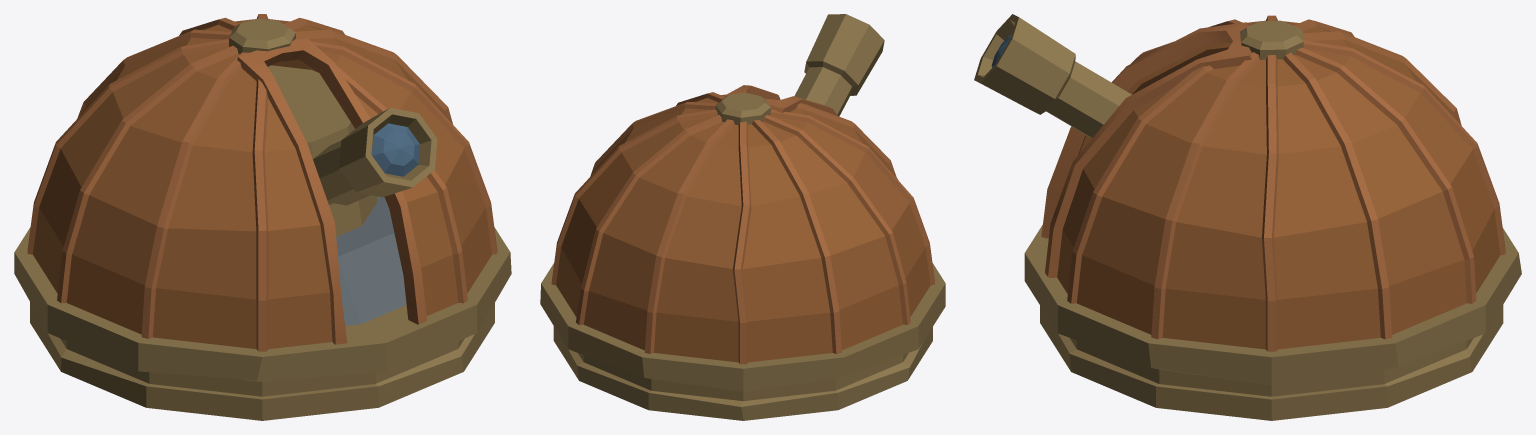
The model's file is SM_Bld_House_Observatory_01.fbx.
The picture shows the model from 3 angles, left to right: view 1: azimuth 30°, elevation 25°; view 2: azimuth 150°, elevation 25°; view 3: azimuth 270°, elevation 25°; orthographic projection. The views are drawn at different scales.
Parts seen in each view (by area): view 1: SM_Bld_House_Observatory_01, SM_Bld_House_Observatory_Telescope_01; view 2: SM_Bld_House_Observatory_01, SM_Bld_House_Observatory_Telescope_01; view 3: SM_Bld_House_Observatory_01, SM_Bld_House_Observatory_Telescope_01.
Boxes of the visible parts, x1,y1,x2,y2 form: SM_Bld_House_Observatory_01: (14, 14, 511, 420); SM_Bld_House_Observatory_Telescope_01: (313, 107, 437, 205); SM_Bld_House_Observatory_01: (540, 85, 945, 420); SM_Bld_House_Observatory_Telescope_01: (794, 14, 884, 116); SM_Bld_House_Observatory_01: (1024, 15, 1521, 420); SM_Bld_House_Observatory_Telescope_01: (974, 14, 1131, 138).
Size of the model in its own units: 313 by 214 by 347.
